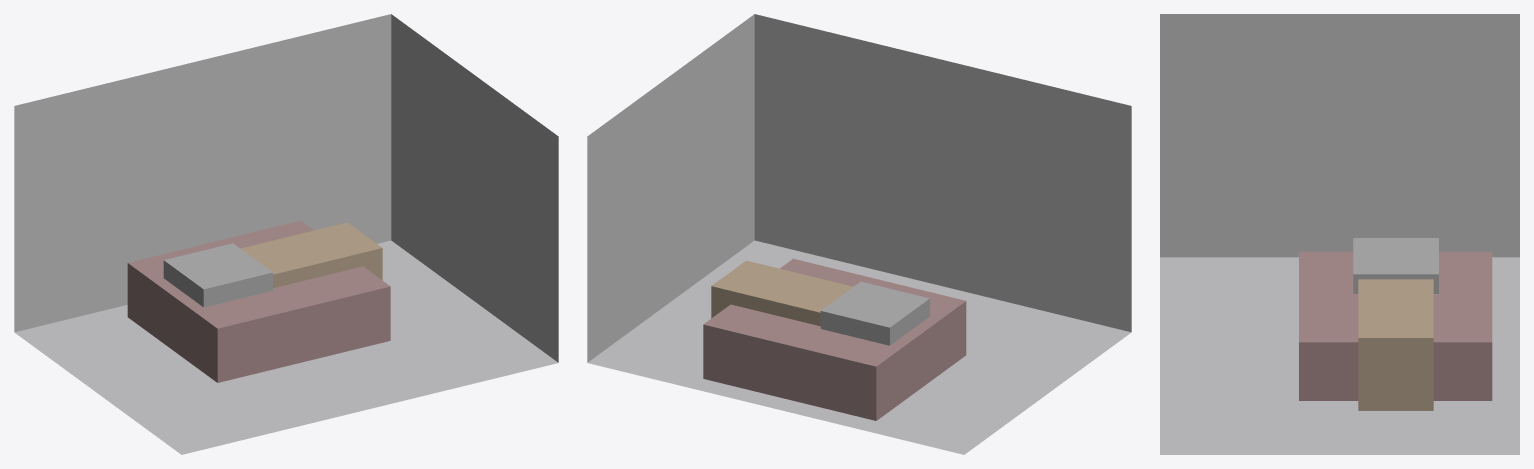
Rendered from optimised_layout.glb.
3 views of the same model, side by side, from view 1: azimuth 30°, elevation 25°; view 2: azimuth 150°, elevation 25°; view 3: azimuth 270°, elevation 25° (orthographic). The views are drawn at different scales.
Visible parts, largest first — view 1: room, bed, desk, dustbin; view 2: room, bed, desk, dustbin; view 3: room, bed, desk, dustbin.
Boxes of the visible parts, <box> form: room: <box>14,14,558,454</box>; bed: <box>127,220,390,382</box>; desk: <box>240,222,382,288</box>; dustbin: <box>163,243,272,307</box>; room: <box>587,14,1131,454</box>; bed: <box>703,258,966,420</box>; desk: <box>711,260,853,326</box>; dustbin: <box>820,281,929,345</box>; room: <box>1160,14,1519,454</box>; bed: <box>1299,251,1492,400</box>; desk: <box>1358,279,1433,410</box>; dustbin: <box>1353,238,1438,293</box>.
Size of the model in its own units: 4.36 by 2.5 by 3.35.
